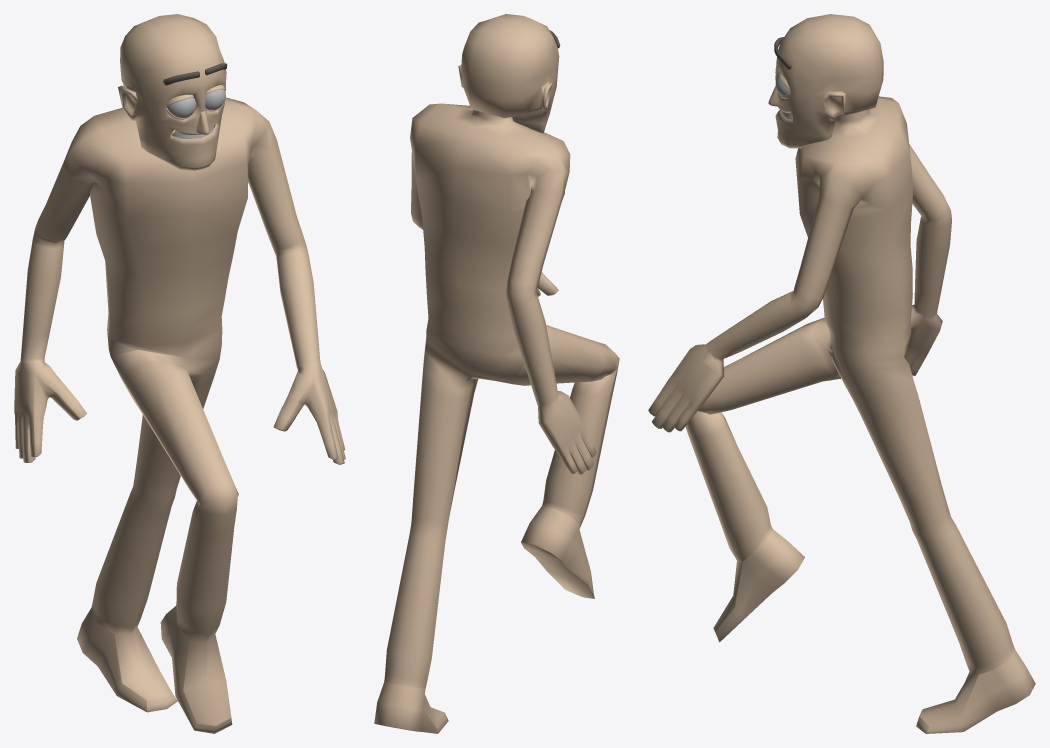
Rendered from Max WalkCycle V21.fbx.
3 views of the same model, side by side, from view 1: azimuth 30°, elevation 25°; view 2: azimuth 150°, elevation 25°; view 3: azimuth 270°, elevation 25° (orthographic). The views are drawn at different scales.
Visible parts, largest first — view 1: bodySkin_Geo, head_Geo; view 2: bodySkin_Geo, head_Geo; view 3: bodySkin_Geo, head_Geo.
Boxes of the visible parts, x1=… form: bodySkin_Geo: x1=14, y1=97, x2=345, y2=733; head_Geo: x1=118, y1=14, x2=226, y2=170; bodySkin_Geo: x1=374, y1=103, x2=619, y2=733; head_Geo: x1=458, y1=14, x2=559, y2=133; bodySkin_Geo: x1=648, y1=96, x2=1035, y2=733; head_Geo: x1=775, y1=14, x2=883, y2=148.
Bounding box in the file's own units: 62.83 × 184 × 93.91.
